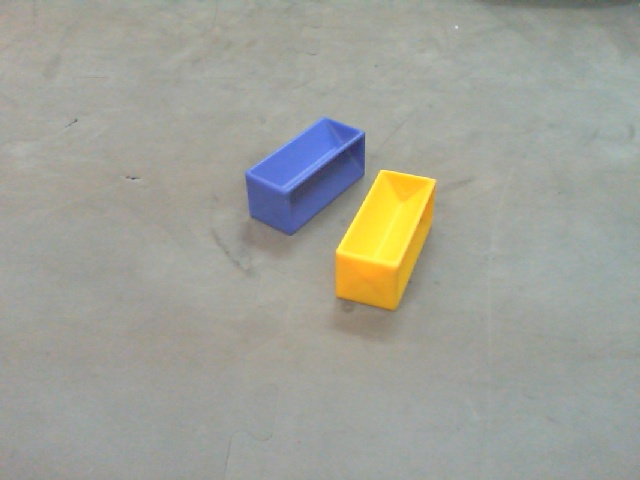BlueSample: (242, 115, 365, 230)
YellowSample: (334, 167, 482, 309)
